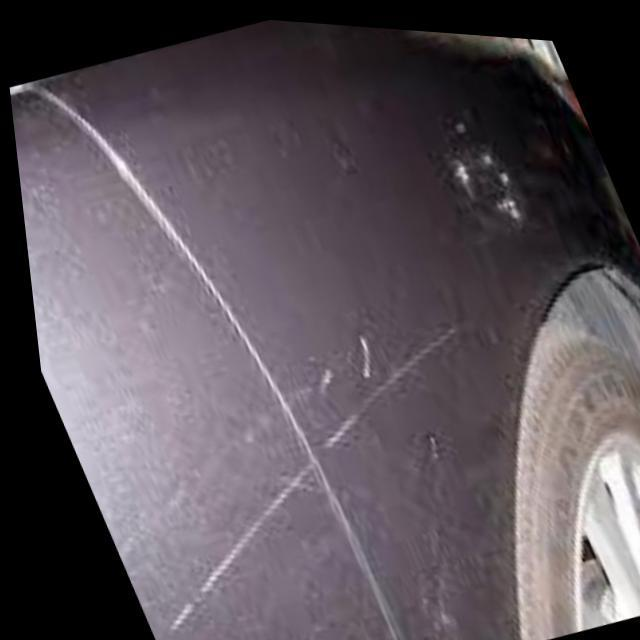rub: (429, 95, 526, 239)
scratch: (104, 306, 508, 640)
